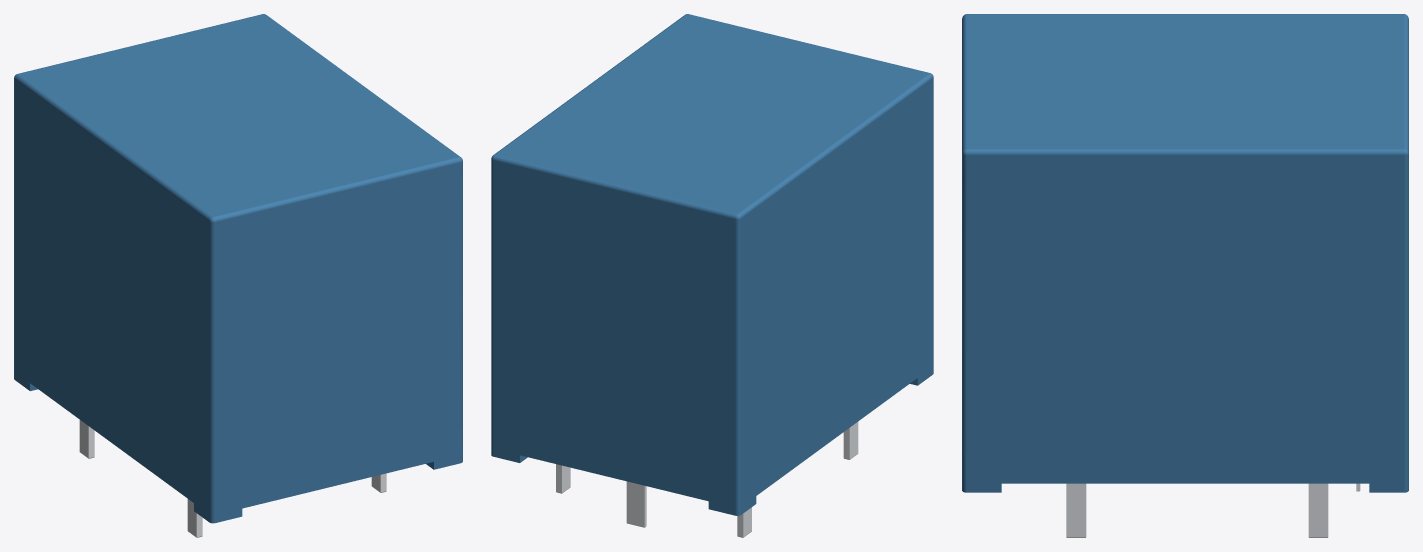
Rendered from rele_autopsia.glb.
3 views of the same model, side by side, from view 1: azimuth 30°, elevation 25°; view 2: azimuth 150°, elevation 25°; view 3: azimuth 270°, elevation 25° (orthographic). The views are drawn at different scales.
Parts seen in each view (by area): view 1: Carcasa_Base, Carcasa_Corte, Pines_Metal; view 2: Carcasa_Base, Pines_Metal; view 3: Carcasa_Base, Carcasa_Corte, Pines_Metal.
Part boxes in pixels (x1,y1,x2,y2): Carcasa_Base: [14, 14, 462, 523]; Carcasa_Corte: [247, 173, 462, 479]; Pines_Metal: [79, 420, 386, 537]; Carcasa_Base: [491, 14, 933, 515]; Pines_Metal: [556, 422, 858, 537]; Carcasa_Base: [962, 14, 1408, 492]; Carcasa_Corte: [962, 167, 1319, 452]; Pines_Metal: [1066, 483, 1360, 537].
Bounding box in the file's own units: 16.5 × 22.5 × 22.5.
